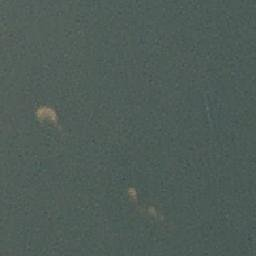debris: (32, 105, 59, 129), (126, 185, 138, 205), (146, 205, 160, 221)
